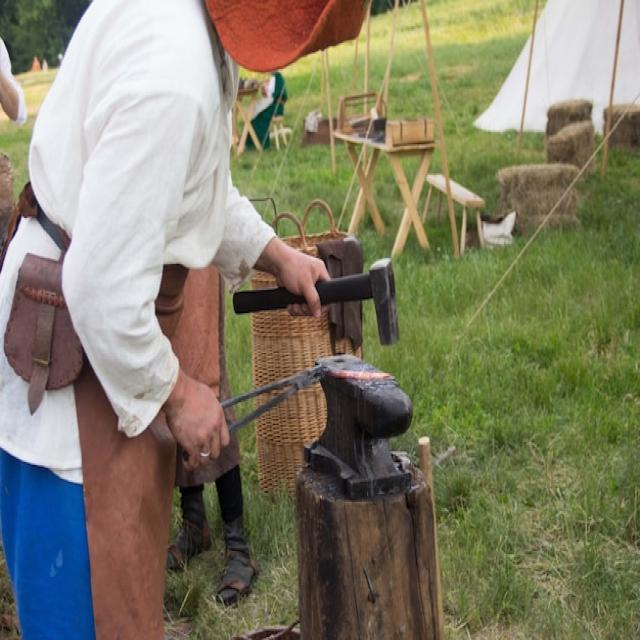hammer: (226, 238, 431, 352)
